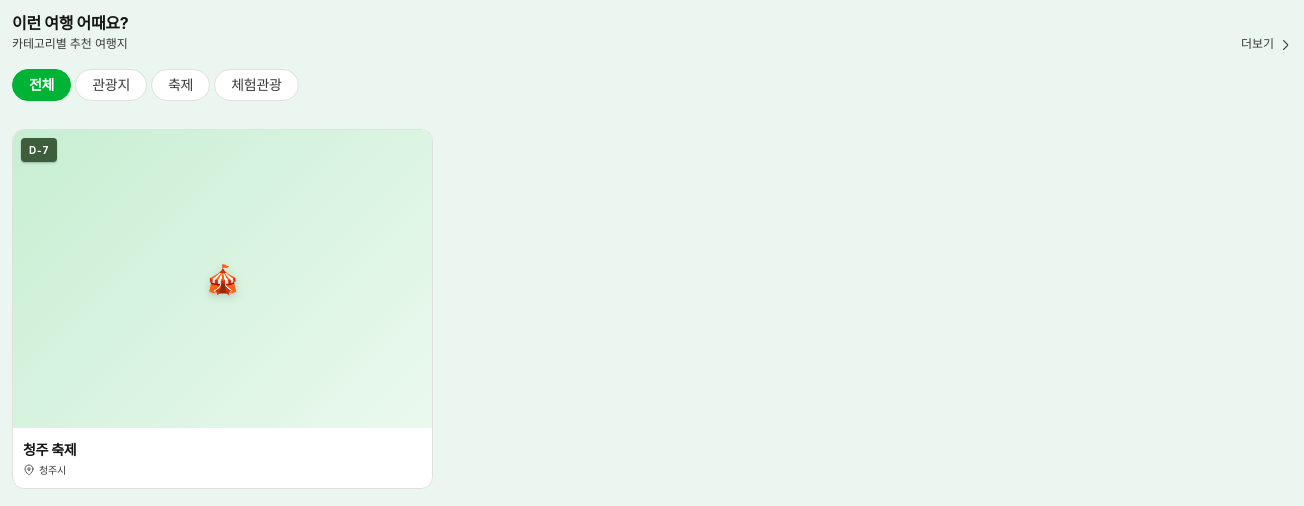
it: HomeCategoryPicks — Figma rec-block (칩 필터 + 추천/축제 병합) › 칩 선택 시 해당 카테고리만 남는다 (없으면 빈 안내)
Step 1. Click the tab "체험관광" → (256, 85), box [214, 69, 299, 101]
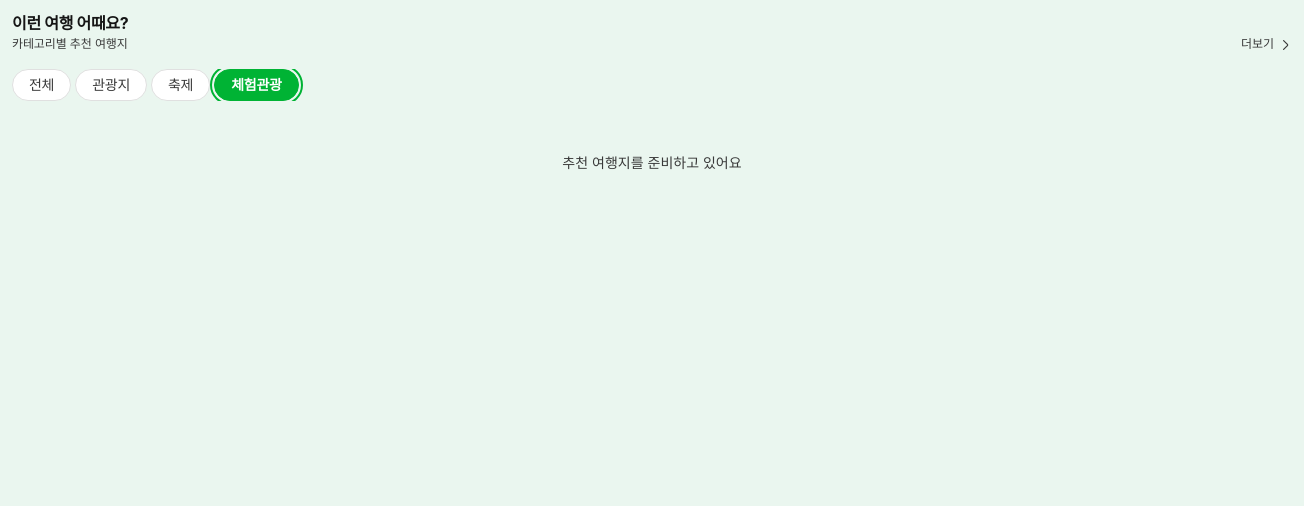
Check: the text "추천 여행지를 준비하고 있어요" is shown, box [562, 154, 742, 171]
